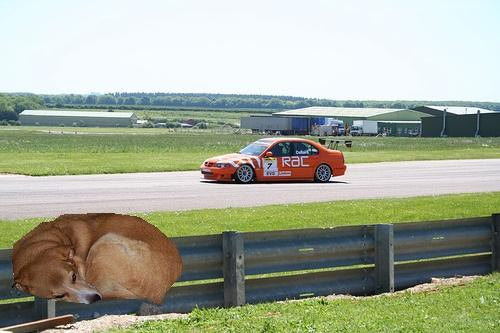tampered: (12, 214, 183, 306)
